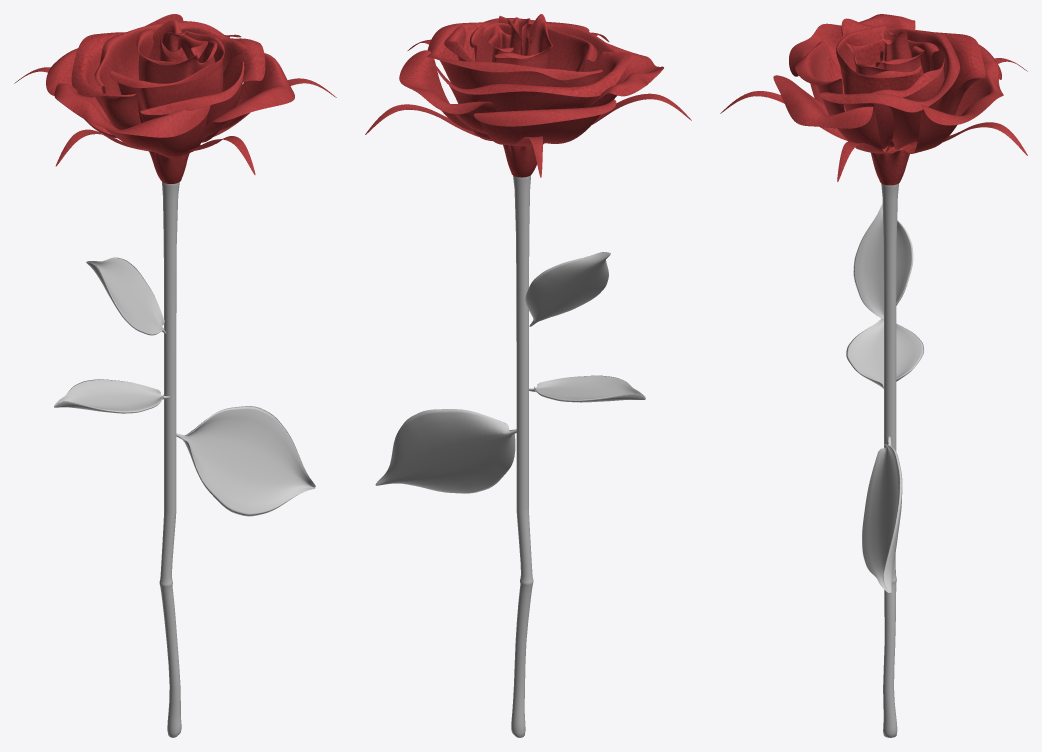
Rendered from rose.fbx.
3 views of the same model, side by side, from view 1: azimuth 30°, elevation 25°; view 2: azimuth 150°, elevation 25°; view 3: azimuth 270°, elevation 25° (orthographic).
Parts seen in each view (by area): view 1: Mesh, pCube1, pCylinder1, pCube2, pCube3; view 2: Mesh, pCube1, pCylinder1, pCube2, pCube3; view 3: Mesh, pCylinder1, pCube1, pCube2, pCube3.
Boxes of the visible parts, bbox=[...] form: Mesh: bbox=[14, 14, 336, 183]; pCube1: bbox=[176, 406, 315, 516]; pCylinder1: bbox=[159, 182, 181, 737]; pCube2: bbox=[86, 257, 166, 335]; pCube3: bbox=[54, 379, 170, 413]; Mesh: bbox=[365, 14, 691, 177]; pCube1: bbox=[375, 409, 516, 493]; pCylinder1: bbox=[511, 175, 533, 737]; pCube2: bbox=[525, 252, 610, 326]; pCube3: bbox=[529, 375, 645, 402]; Mesh: bbox=[720, 14, 1027, 185]; pCylinder1: bbox=[881, 183, 898, 737]; pCube1: bbox=[862, 436, 902, 593]; pCube2: bbox=[853, 204, 913, 318]; pCube3: bbox=[846, 318, 923, 388].
Bounding box in the file's own units: 36.25 × 86.16 × 33.88.
